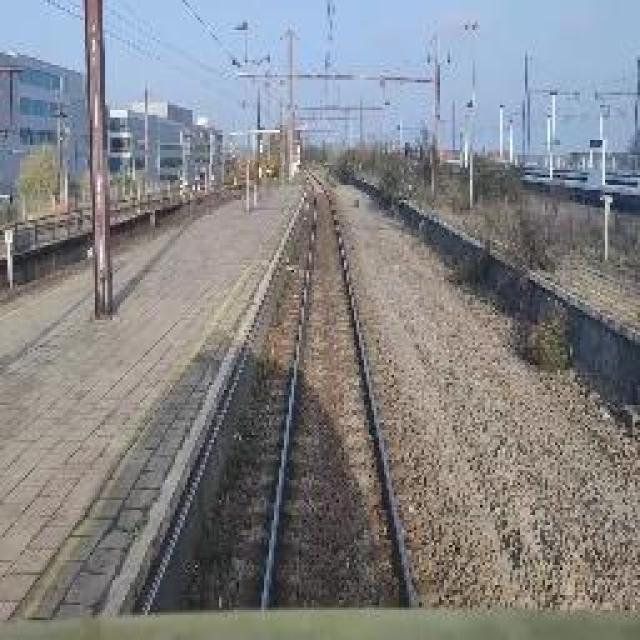rail: (207, 166, 452, 614)
